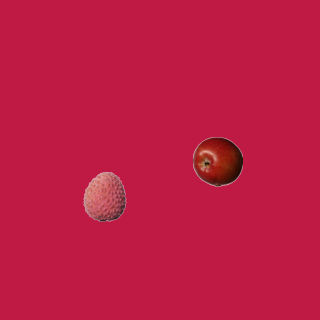Apple Braeburn: (192, 136, 242, 186)
Lychee: (79, 171, 129, 221)
